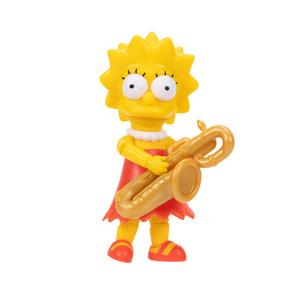Lisa: (87, 23, 231, 274)
